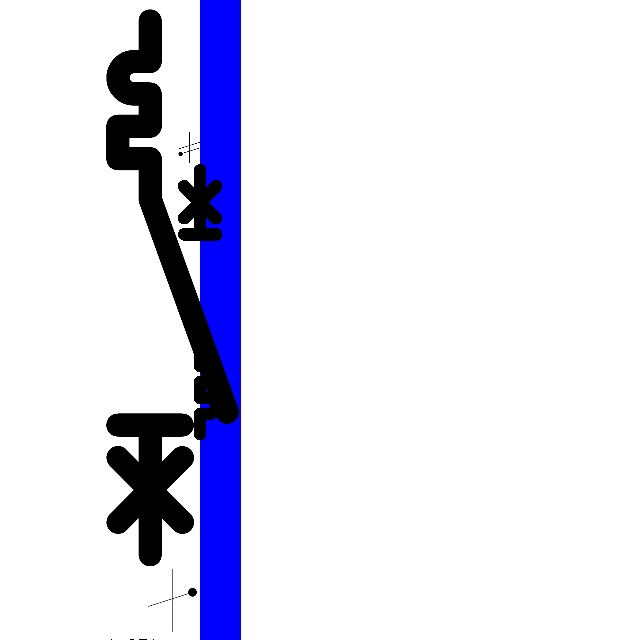interruptor_termomagnetico: (104, 7, 241, 568), (155, 163, 223, 440)
